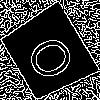O: (23, 27, 86, 85)
